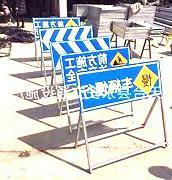sign: (79, 64, 161, 109), (62, 50, 130, 85), (34, 18, 82, 38)
